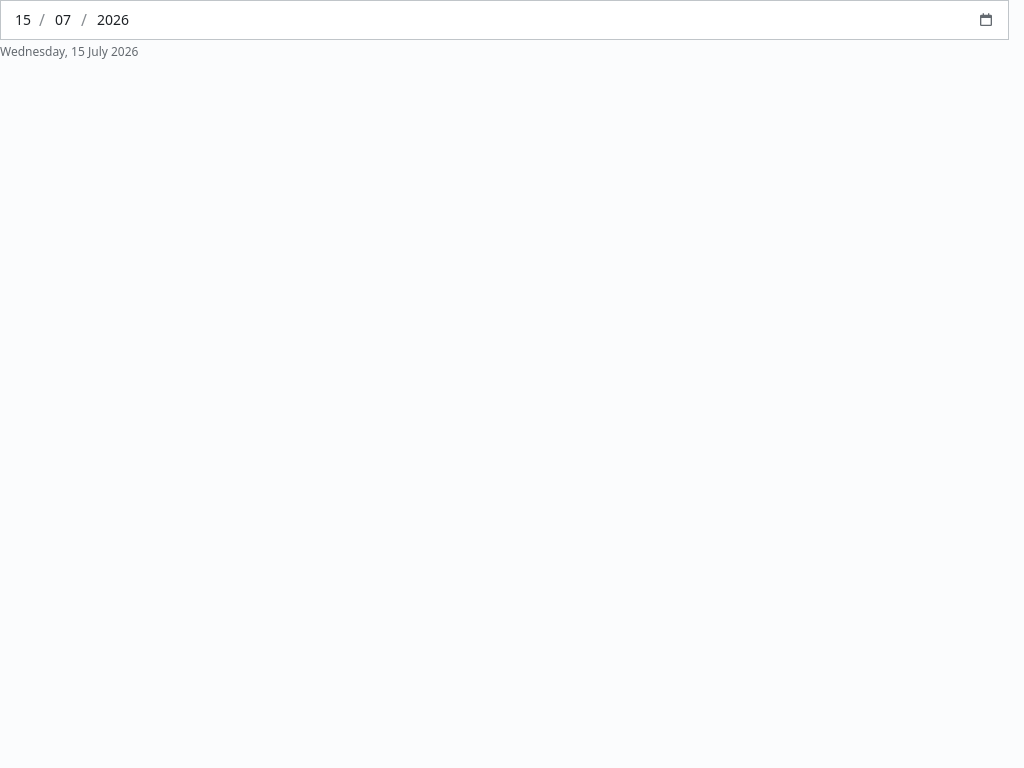
it: a day inside a locked period › says why, rather than doing nothing when clicked
Click the button named "Open calendar" at (986, 20), box [972,6,1000,34]
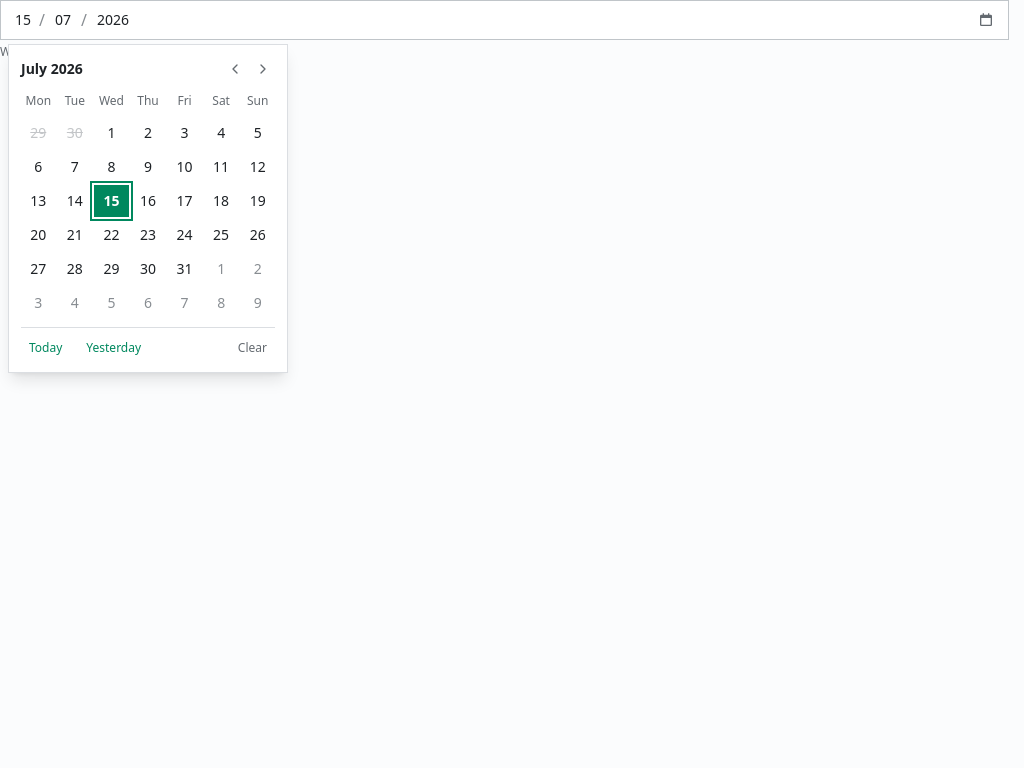
Click the cell named "Tuesday, 30 June 2026" at (75, 133), box [58,117,92,149]
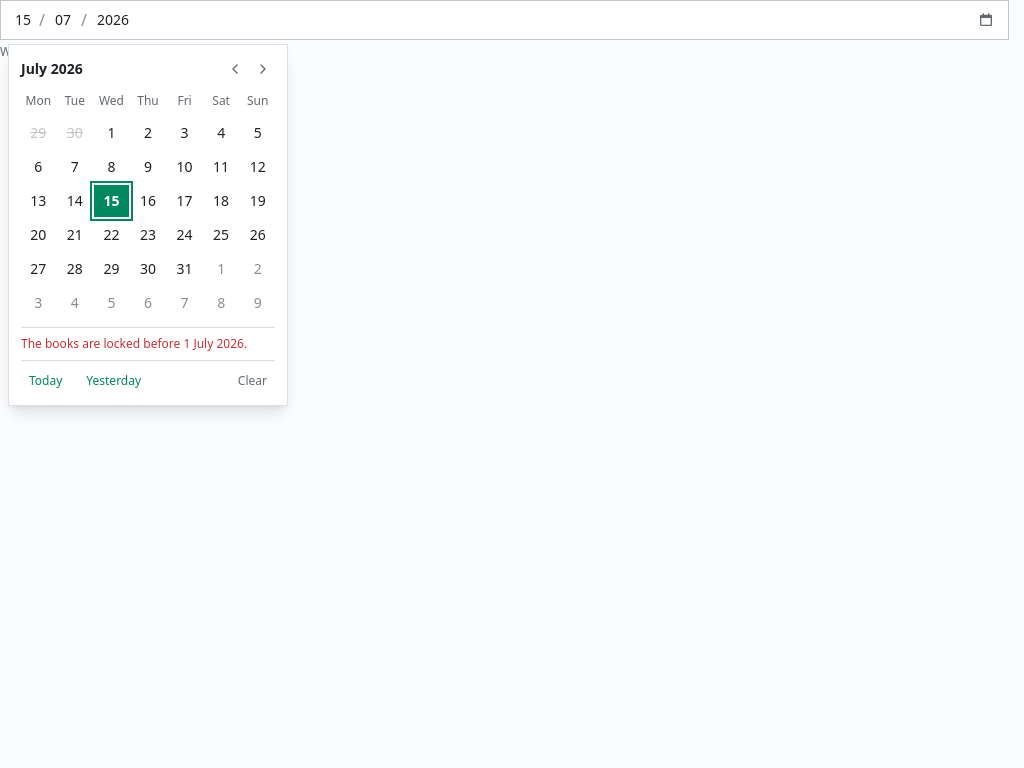
Now the text "The books are locked before 1 July 2026." is shown, box [21,327,275,352]
